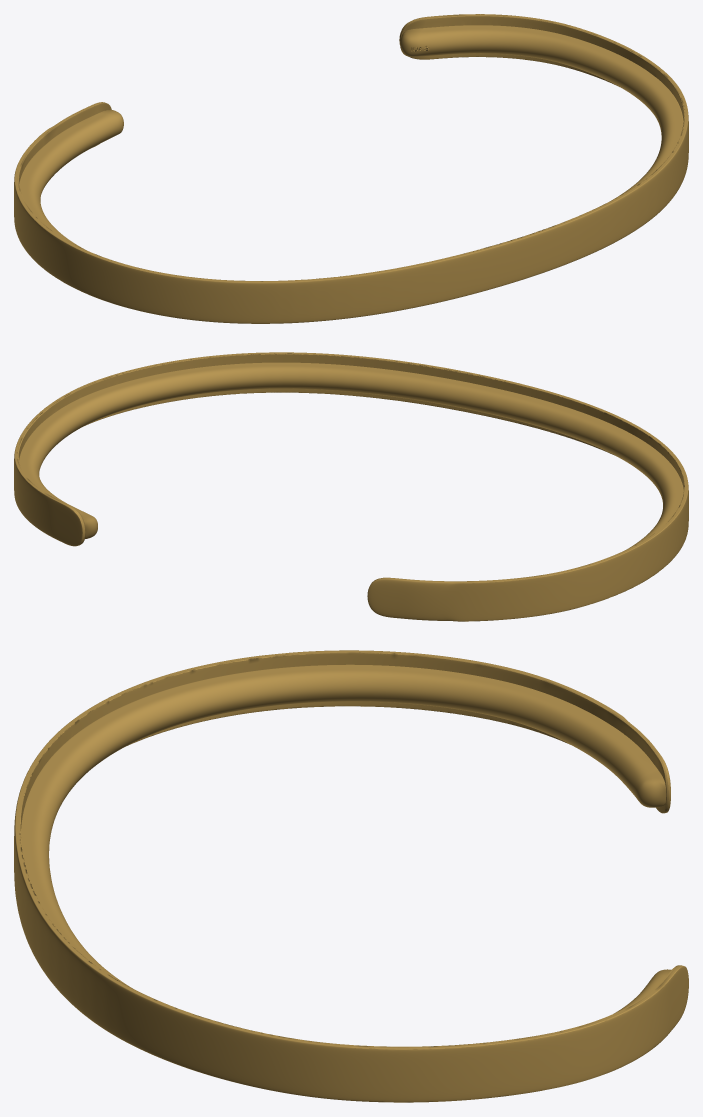
Rendered from EX-bold-gold24.glb.
3 views of the same model, one above another, from view 1: azimuth 30°, elevation 25°; view 2: azimuth 150°, elevation 25°; view 3: azimuth 270°, elevation 25° (orthographic). The views are drawn at different scales.
Parts seen in each view (by area): view 1: EX-body.005; view 2: EX-body.005; view 3: EX-body.005.
Part boxes in pixels (<box>): EX-body.005: <box>14,14,688,323</box>; EX-body.005: <box>14,352,688,621</box>; EX-body.005: <box>14,650,688,1102</box>.
Size of the model in its own units: 3.45 by 0.2162 by 2.46.
Materials: 1 (1 with a texture image).
